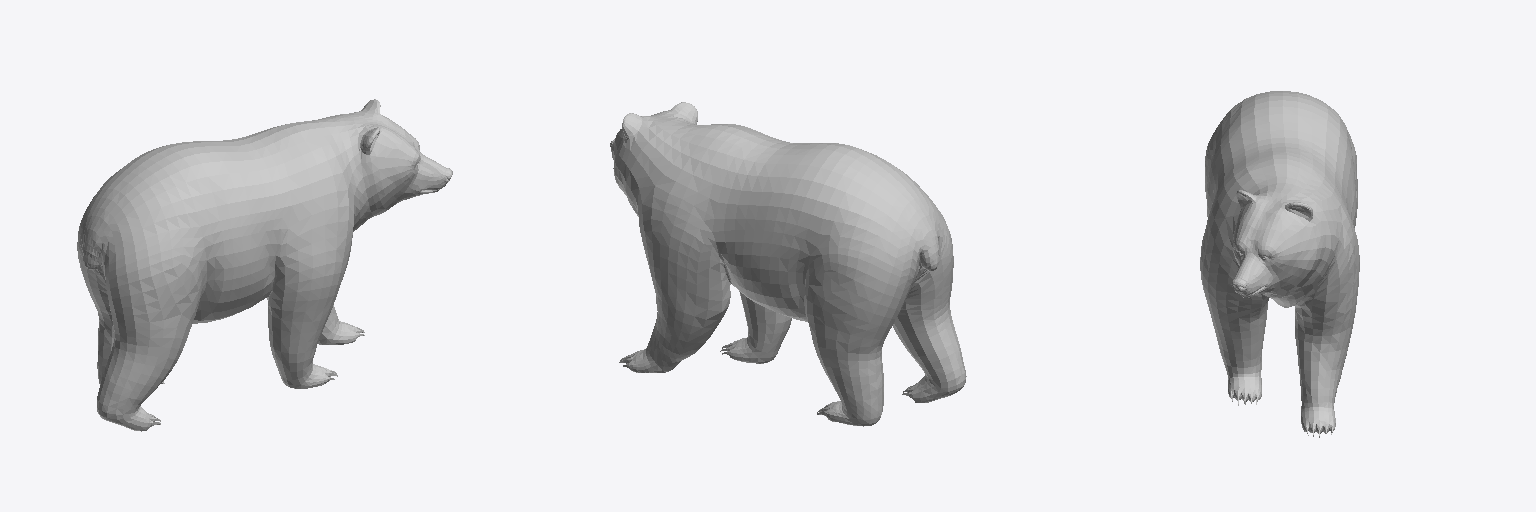
The model's file is 3dbear.obj.
3 views of the same model, side by side, from view 1: azimuth 30°, elevation 25°; view 2: azimuth 150°, elevation 25°; view 3: azimuth 270°, elevation 25° (orthographic).
Parts seen in each view (by area): view 1: node_id36; view 2: node_id36; view 3: node_id36.
Part boxes in pixels (x1,y1,x2,y2): node_id36: (77, 99, 452, 431); node_id36: (610, 102, 966, 426); node_id36: (1200, 91, 1359, 437).
Size of the model in its own units: 0.77 by 0.512 by 0.3016.